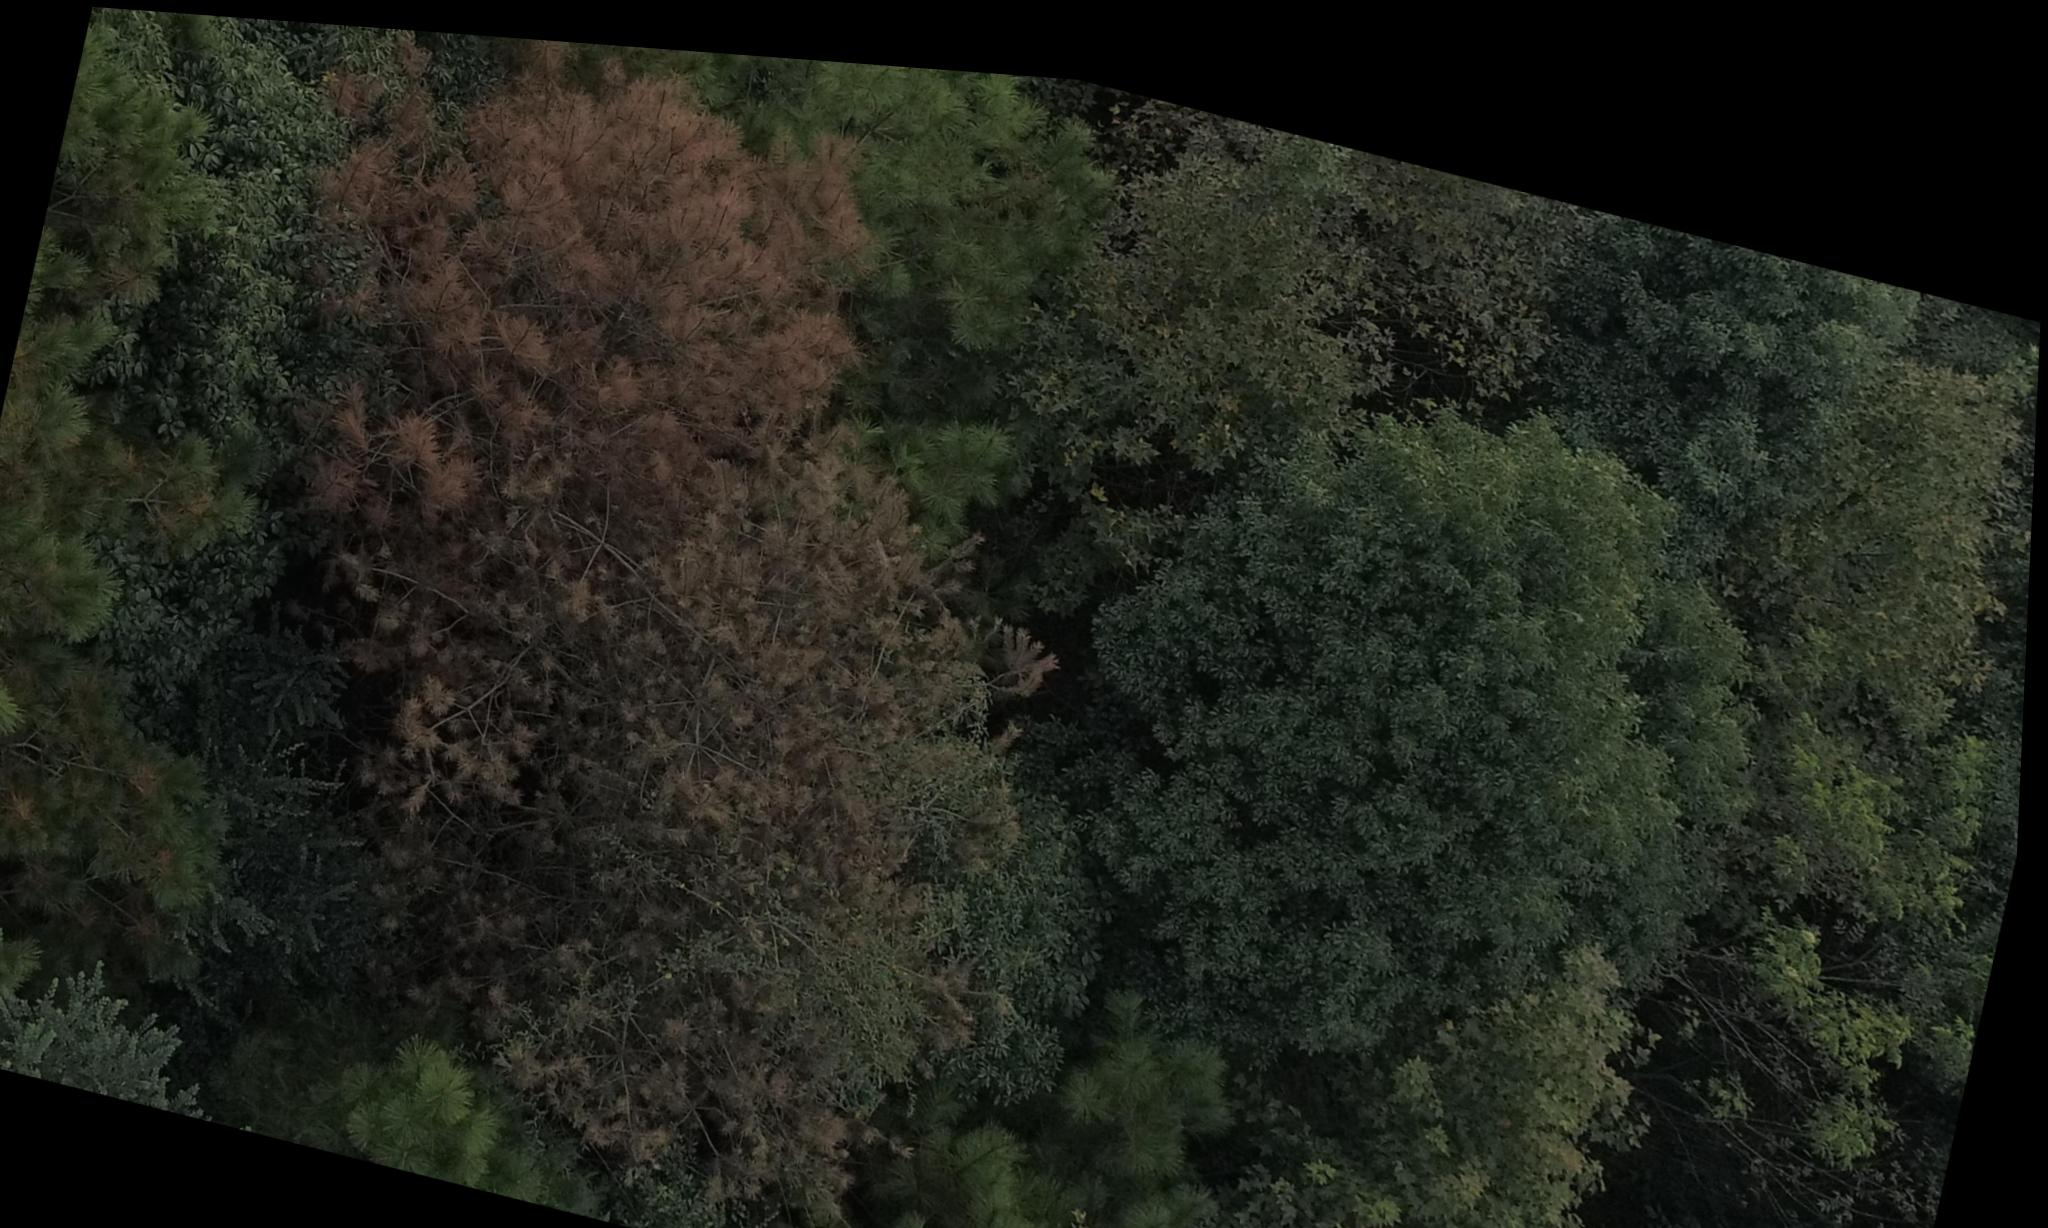heavy: (249, 466, 1069, 1228), (249, 16, 883, 551)
